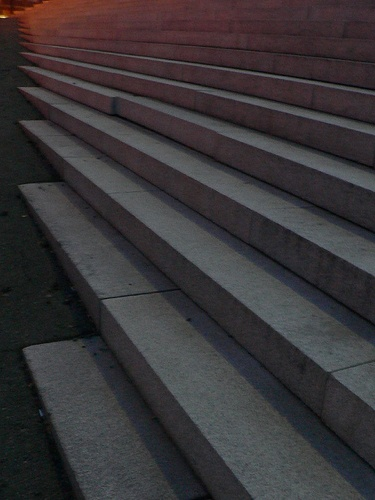stairs_up: (55, 4, 361, 476)
